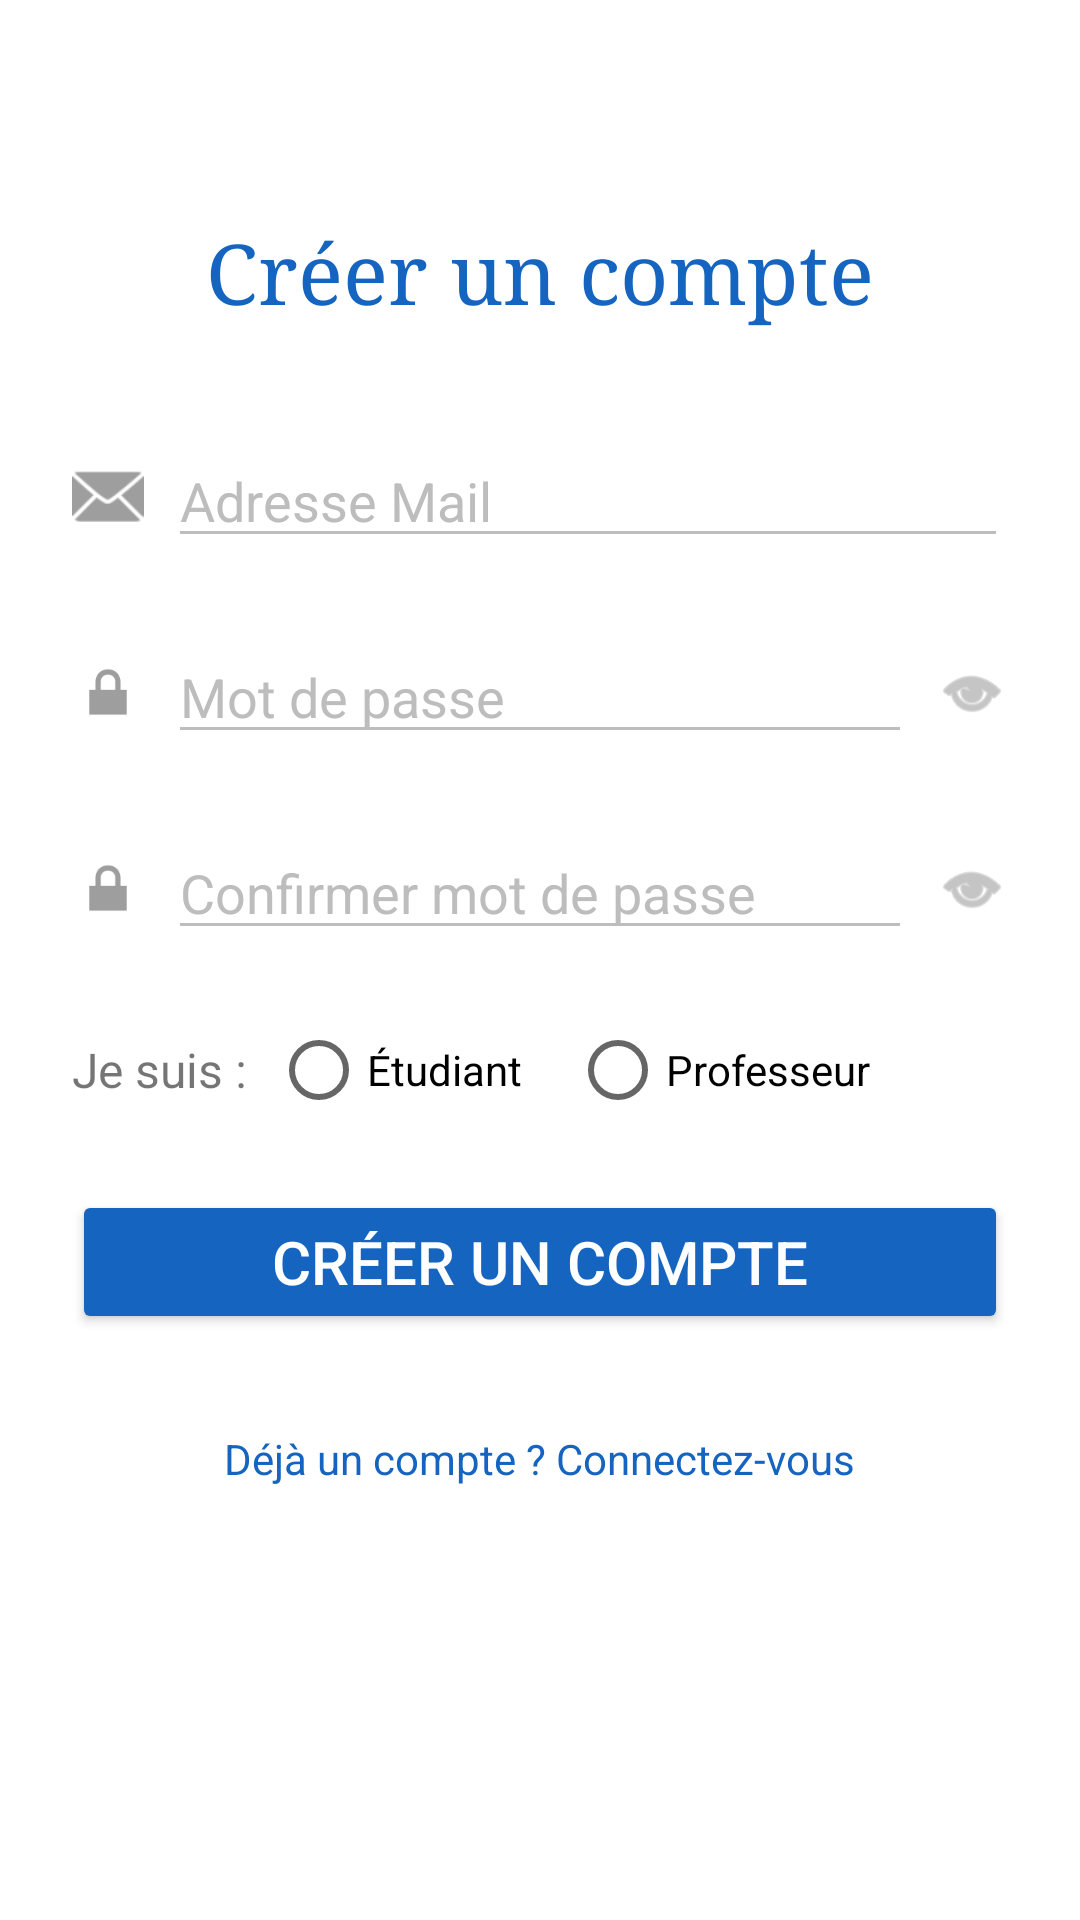

Icon click points for this 1080w x 1920h phone screenshot, format (x,y):
lock: (108,692), (108,888)
view: (972,694), (972,890)
